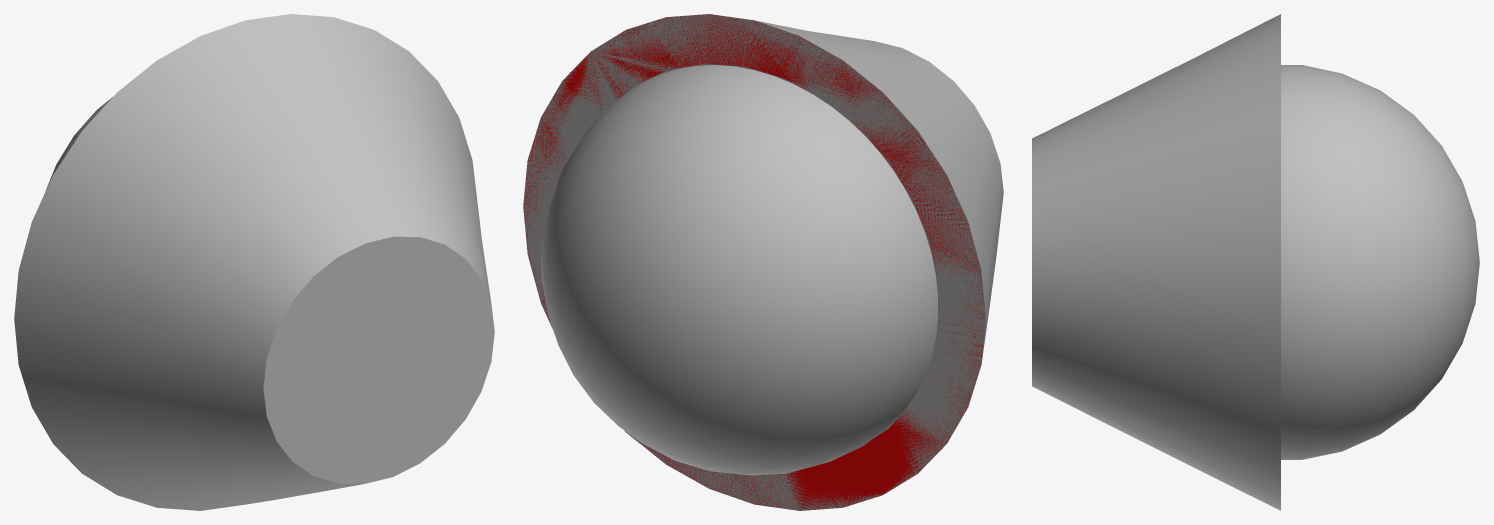
3 views of the same model, side by side, from view 1: azimuth 30°, elevation 25°; view 2: azimuth 150°, elevation 25°; view 3: azimuth 270°, elevation 25° (orthographic). The views are drawn at different scales.
Parts seen in each view (by area): view 1: SOLID; view 2: SOLID (×2), COMPOUND; view 3: SOLID (×2).
Boxes of the visible parts, x1=… form: SOLID: x1=14, y1=14, x2=494, y2=510; SOLID (×2): x1=523, y1=14, x2=1003, y2=510; COMPOUND: x1=523, y1=14, x2=985, y2=510; SOLID (×2): x1=1032, y1=14, x2=1479, y2=510.
Size of the model in its own units: 2 by 2 by 1.8.
